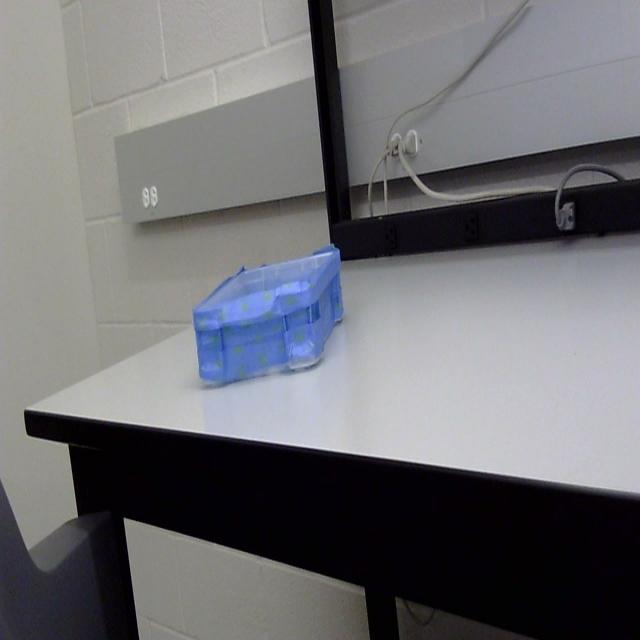bucket: (191, 237, 345, 390)
